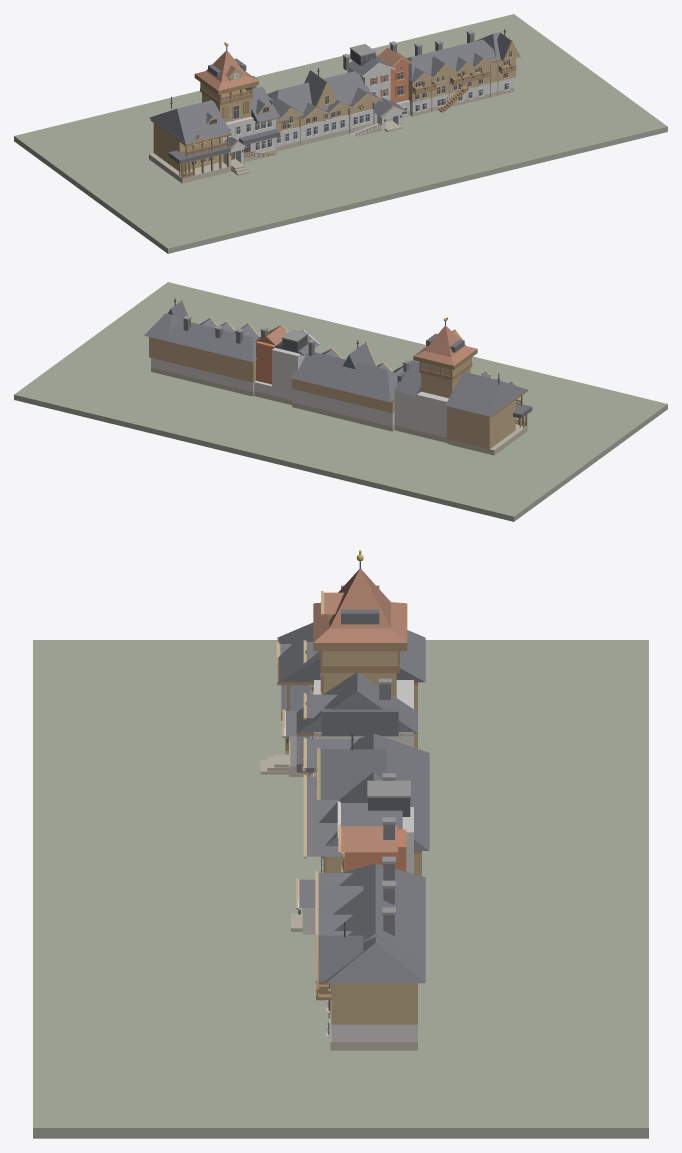
Rendered from building_v3.glb.
The picture shows the model from 3 angles, top to bottom: view 1: azimuth 30°, elevation 25°; view 2: azimuth 150°, elevation 25°; view 3: azimuth 270°, elevation 25°; orthographic projection. The views are drawn at different scales.
Parts seen in each view (by area): view 1: geometry_0, geometry_65, geometry_299, geometry_537, geometry_536, geometry_4, geometry_296, geometry_1, geometry_534, geometry_5, geometry_6, geometry_195 (+9 smaller); view 2: geometry_0, geometry_299, geometry_536, geometry_4, geometry_65, geometry_5, geometry_537, geometry_296, geometry_298, geometry_534, geometry_464, geometry_115 (+10 smaller); view 3: geometry_0, geometry_537, geometry_299, geometry_536, geometry_538, geometry_65, geometry_195, geometry_301, geometry_197, geometry_176, geometry_177, geometry_534 (+10 smaller).
Boxes of the visible parts, left/top/right/bottom form: geometry_0: left=14, top=14, right=667, bottom=253; geometry_65: left=149, top=100, right=230, bottom=144; geometry_299: left=267, top=71, right=372, bottom=121; geometry_537: left=406, top=39, right=495, bottom=79; geometry_536: left=408, top=58, right=515, bottom=102; geometry_4: left=153, top=123, right=222, bottom=171; geometry_296: left=276, top=109, right=373, bottom=146; geometry_1: left=149, top=153, right=229, bottom=183; geometry_534: left=410, top=77, right=513, bottom=111; geometry_5: left=222, top=116, right=275, bottom=161; geometry_6: left=168, top=142, right=230, bottom=163; geometry_195: left=251, top=86, right=279, bottom=122; geometry_0: left=14, top=282, right=667, bottom=521; geometry_299: left=290, top=352, right=397, bottom=402; geometry_536: left=149, top=337, right=255, bottom=382; geometry_4: left=447, top=400, right=515, bottom=449; geometry_65: left=445, top=372, right=526, bottom=416; geometry_5: left=394, top=391, right=448, bottom=437; geometry_537: left=168, top=320, right=257, bottom=361; geometry_296: left=292, top=389, right=394, bottom=426; geometry_298: left=292, top=378, right=394, bottom=413; geometry_534: left=151, top=358, right=254, bottom=392; geometry_464: left=272, top=348, right=315, bottom=391; geometry_115: left=421, top=368, right=470, bottom=398; geometry_0: left=33, top=640, right=648, bottom=1138; geometry_537: left=333, top=863, right=425, bottom=959; geometry_299: left=319, top=733, right=429, bottom=850; geometry_536: left=331, top=983, right=417, bottom=1024; geometry_538: left=325, top=937, right=425, bottom=983; geometry_65: left=278, top=622, right=425, bottom=682; geometry_195: left=296, top=673, right=417, bottom=733; geometry_301: left=320, top=749, right=386, bottom=799; geometry_197: left=321, top=708, right=398, bottom=736; geometry_176: left=313, top=602, right=407, bottom=642; geometry_177: left=329, top=569, right=390, bottom=628; geometry_534: left=331, top=1024, right=417, bottom=1041.
Size of the model in its own units: 30 by 6.74 by 16.
